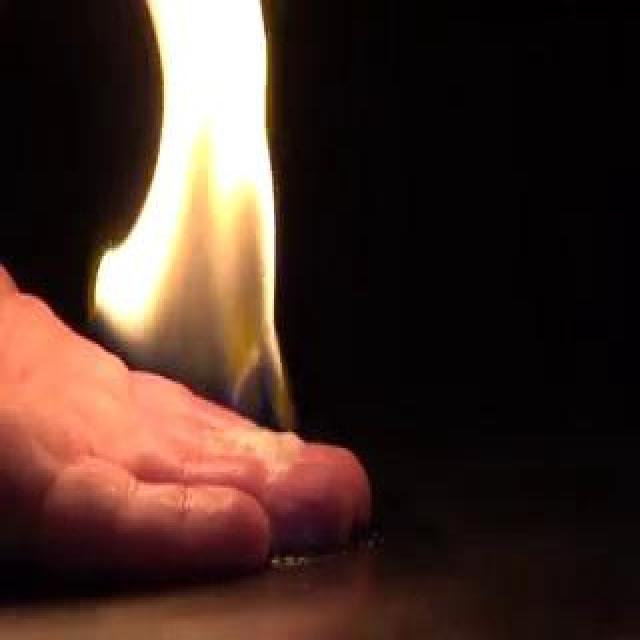Fire: (153, 19, 271, 429)
